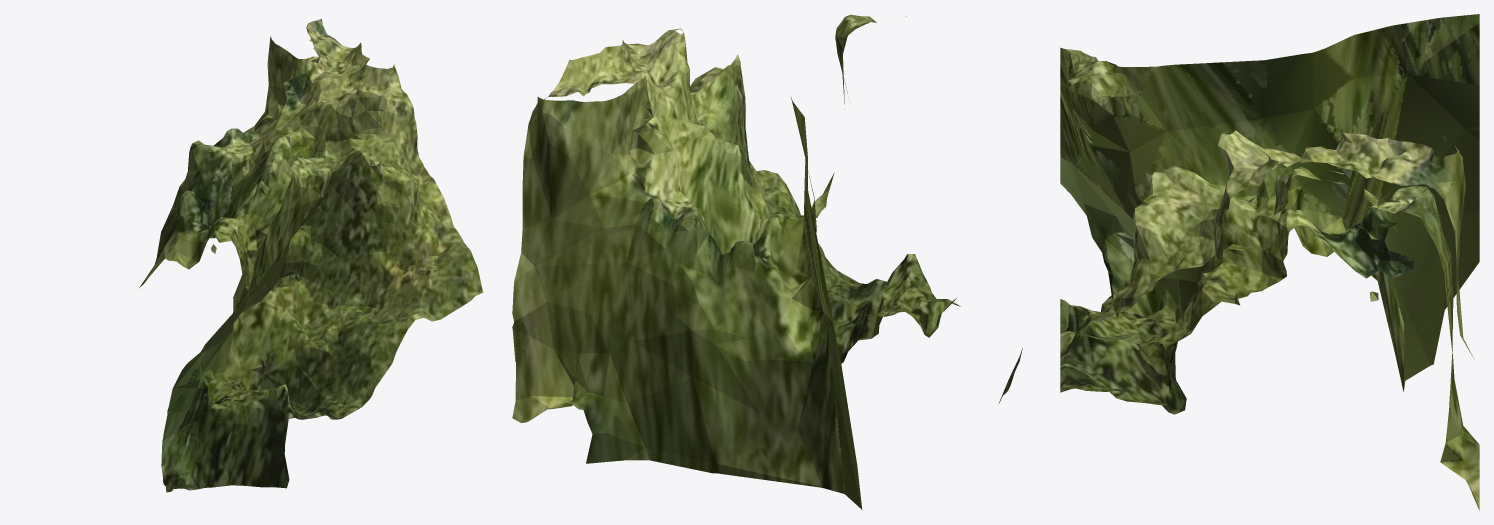
3 renders of one model, left to right at view 1: azimuth 30°, elevation 25°; view 2: azimuth 150°, elevation 25°; view 3: azimuth 270°, elevation 25°, orthographic. The views are drawn at different scales.
Size of the model in its own units: 2.95 by 2.95 by 2.95.
Materials: 6 (6 with a texture image).
